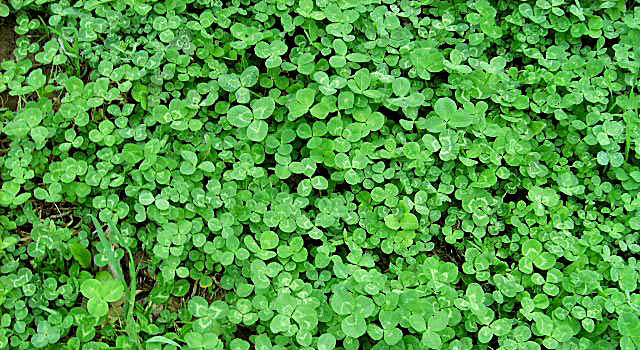clover: (6, 3, 638, 344)
